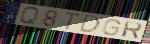8: (42, 10, 60, 28)
D: (77, 14, 101, 34)
G: (101, 18, 122, 36)
Q: (19, 6, 41, 26)
R: (120, 21, 143, 40)
T: (64, 11, 82, 31)
